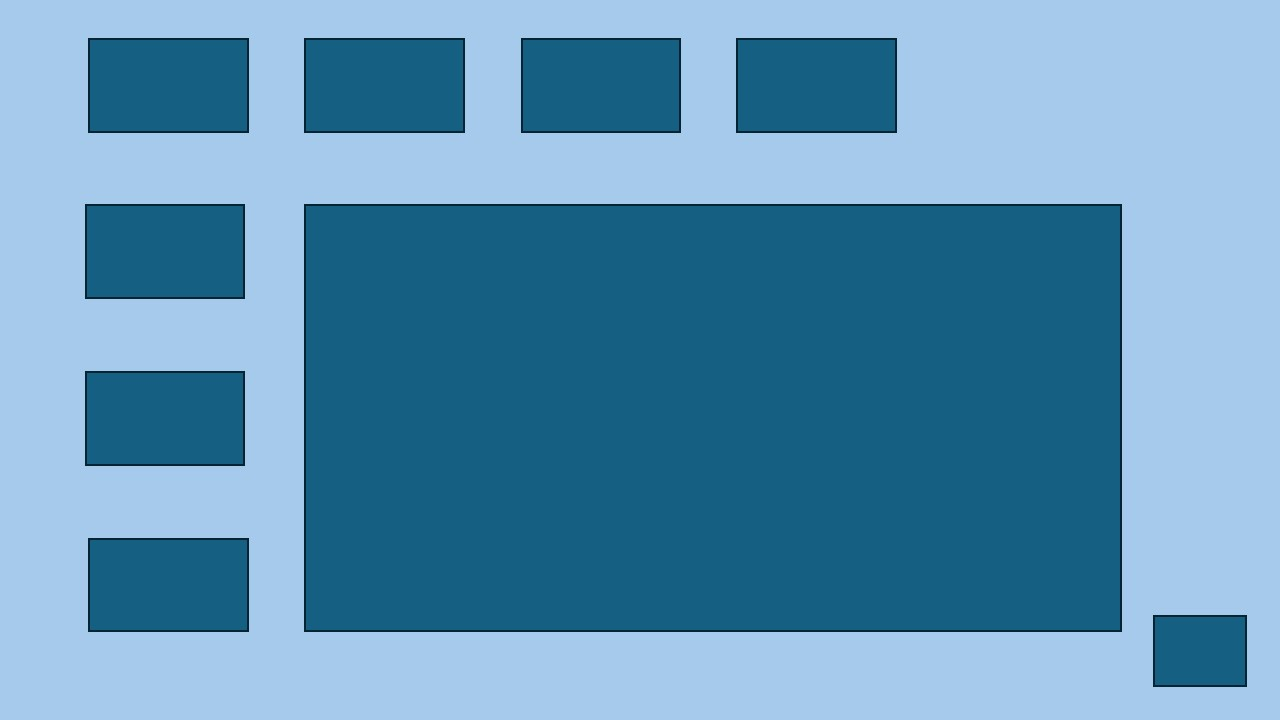

This screenshot's page, from the dashboard's own definition file:
{"tool":"powerbi","page":{"name":"Page 1","canvas":[1920,1080],"ordinal":0},"visuals":[{"type":"map","fields":{"Size":["Sum(number-of-employees-2023-q2 (2).قيمة عدد المنشآت)"],"Category":["المنطقة.المنطقة"],"Series":["المنطقة.المنطقة"]},"box":[465.9,312.4,1208.5,630.1],"z":0},{"type":"card","fields":{"Values":["CountNonNull(number-of-employees-2023-q2 (2).قيمة عدد المنشآت)"]},"box":[166,64,160,110],"z":1000},{"type":"card","fields":{"Values":["CountNonNull(number-of-employees-2023-q2 (2).قيمة عدد المنشآت)"]},"box":[164,276,162,170],"z":2000},{"type":"card","fields":{"Values":["CountNonNull(number-of-employees-2023-q2 (2).قيمة عدد المنشآت)"]},"box":[155.9,538,180.9,170.1],"z":3000},{"type":"card","fields":{"Values":["Sum(number-of-employees-2023-q2 (3).عدد المنشآت)"]},"box":[466,46,216,140],"z":5000},{"type":"card","fields":{"Values":["Median(number-of-employees-2023-q2 (2).الربع)"]},"box":[780,46,232,128],"z":6000},{"type":"card","fields":{"Values":["Median(number-of-employees-2023-q2 (2).السنة)"]},"box":[1104,36,234,150],"z":7000},{"type":"actionButton","box":[1750,926,124,106],"z":8000},{"type":"card","fields":{"Values":["CountNonNull(number-of-employees-2023-q2 (2).قيمة عدد المنشآت)"]},"box":[120,814,250,112],"z":9000},{"type":"actionButton","box":[1206,638,73.6,39.8],"z":10000}]}

Visuals, with their boxes in screenshot pixels (x1, y1, x2, y2), scaled from the page's 1920x1080 canvas onto the 1280x720 screenshot:
map - Sum(number-of-employees-2023-q2 (2).قيمة عدد المنشآت) x المنطقة.المنطقة: locate(311, 208, 1116, 628)
card - CountNonNull(number-of-employees-2023-q2 (2).قيمة عدد المنشآت): locate(111, 43, 217, 116)
card - CountNonNull(number-of-employees-2023-q2 (2).قيمة عدد المنشآت): locate(109, 184, 217, 297)
card - CountNonNull(number-of-employees-2023-q2 (2).قيمة عدد المنشآت): locate(104, 359, 225, 472)
card - Sum(number-of-employees-2023-q2 (3).عدد المنشآت): locate(311, 31, 455, 124)
card - Median(number-of-employees-2023-q2 (2).الربع): locate(520, 31, 675, 116)
card - Median(number-of-employees-2023-q2 (2).السنة): locate(736, 24, 892, 124)
actionButton: locate(1167, 617, 1249, 688)
card - CountNonNull(number-of-employees-2023-q2 (2).قيمة عدد المنشآت): locate(80, 543, 247, 617)
actionButton: locate(804, 425, 853, 452)
